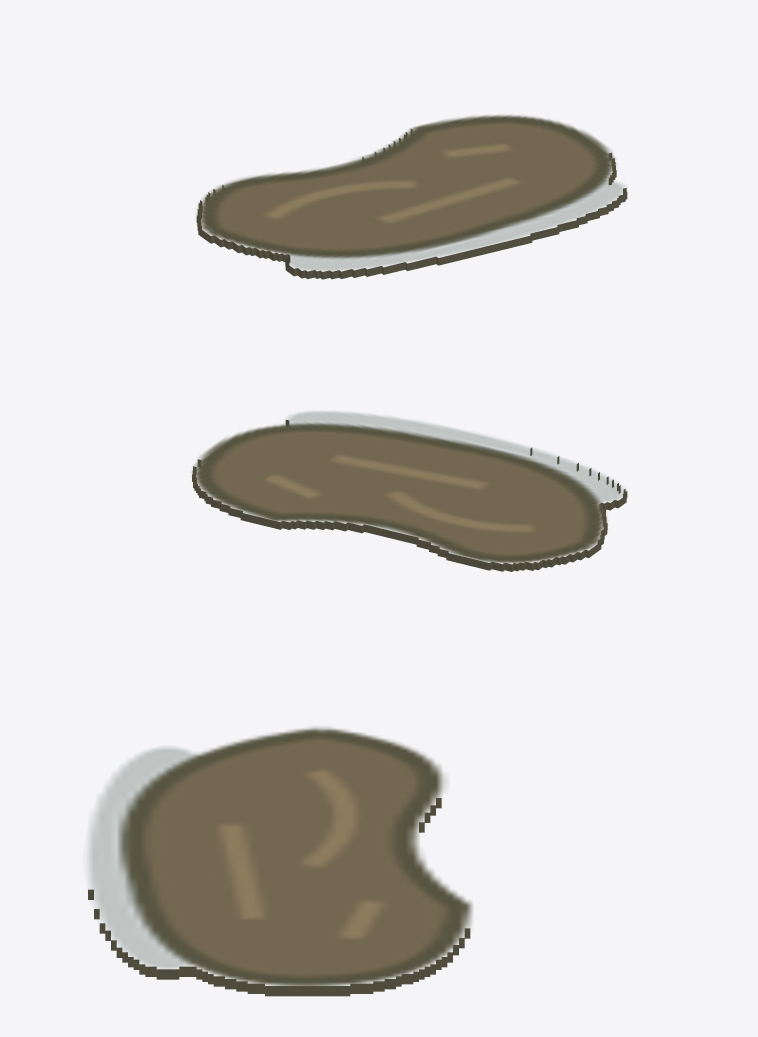
The model's file is Mud.glb.
3 renders of one model, top to bottom at view 1: azimuth 30°, elevation 25°; view 2: azimuth 150°, elevation 25°; view 3: azimuth 270°, elevation 25°, orthographic. The views are drawn at different scales.
Parts seen in each view (by area): view 1: Visual; view 2: Visual; view 3: Visual.
Boxes of the visible parts, left/top/right/bottom form: Visual: left=196, top=115, right=627, bottom=279; Visual: left=192, top=412, right=627, bottom=571; Visual: left=88, top=727, right=472, bottom=996.
Bounding box in the file's own units: 1.28 × 0.02 × 1.28.
3 materials, 2 textured.
